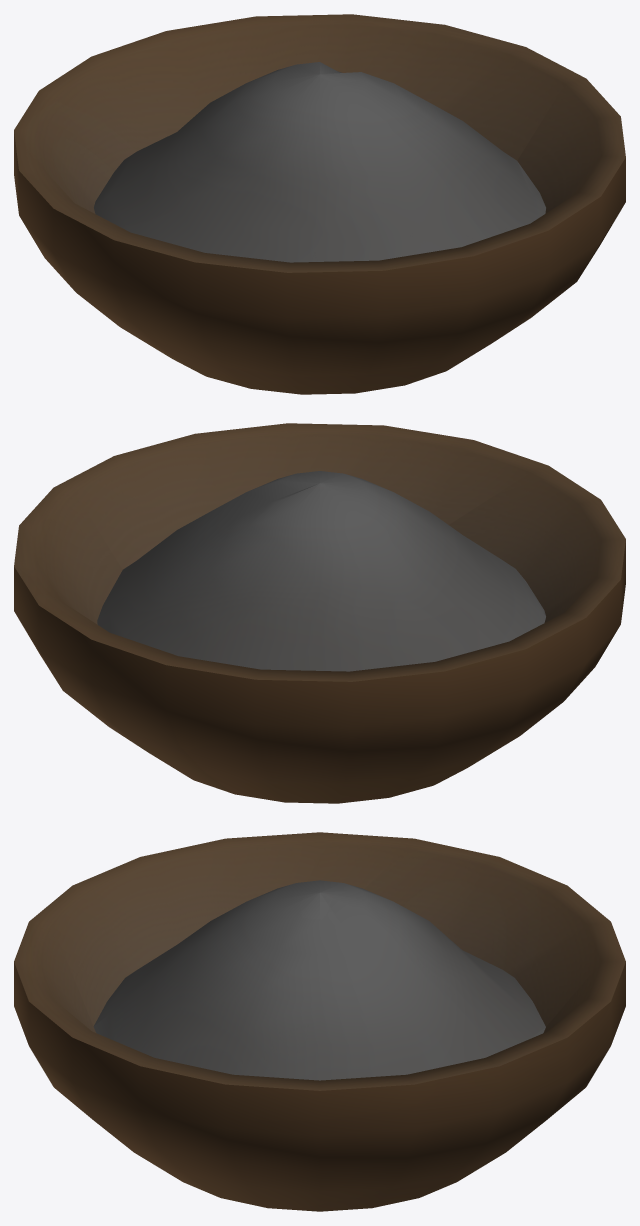
File: AshBowl.fbx
3 views of the same model, one above another, from view 1: azimuth 30°, elevation 25°; view 2: azimuth 150°, elevation 25°; view 3: azimuth 270°, elevation 25° (orthographic).
Visible parts, largest first — view 1: Ash_Bowl; view 2: Ash_Bowl; view 3: Ash_Bowl.
Part boxes in pixels (<box>): Ash_Bowl: <box>14,14,625,394</box>; Ash_Bowl: <box>14,423,625,803</box>; Ash_Bowl: <box>14,832,625,1211</box>.
Size of the model in its own units: 6.21 by 3.05 by 6.21.
